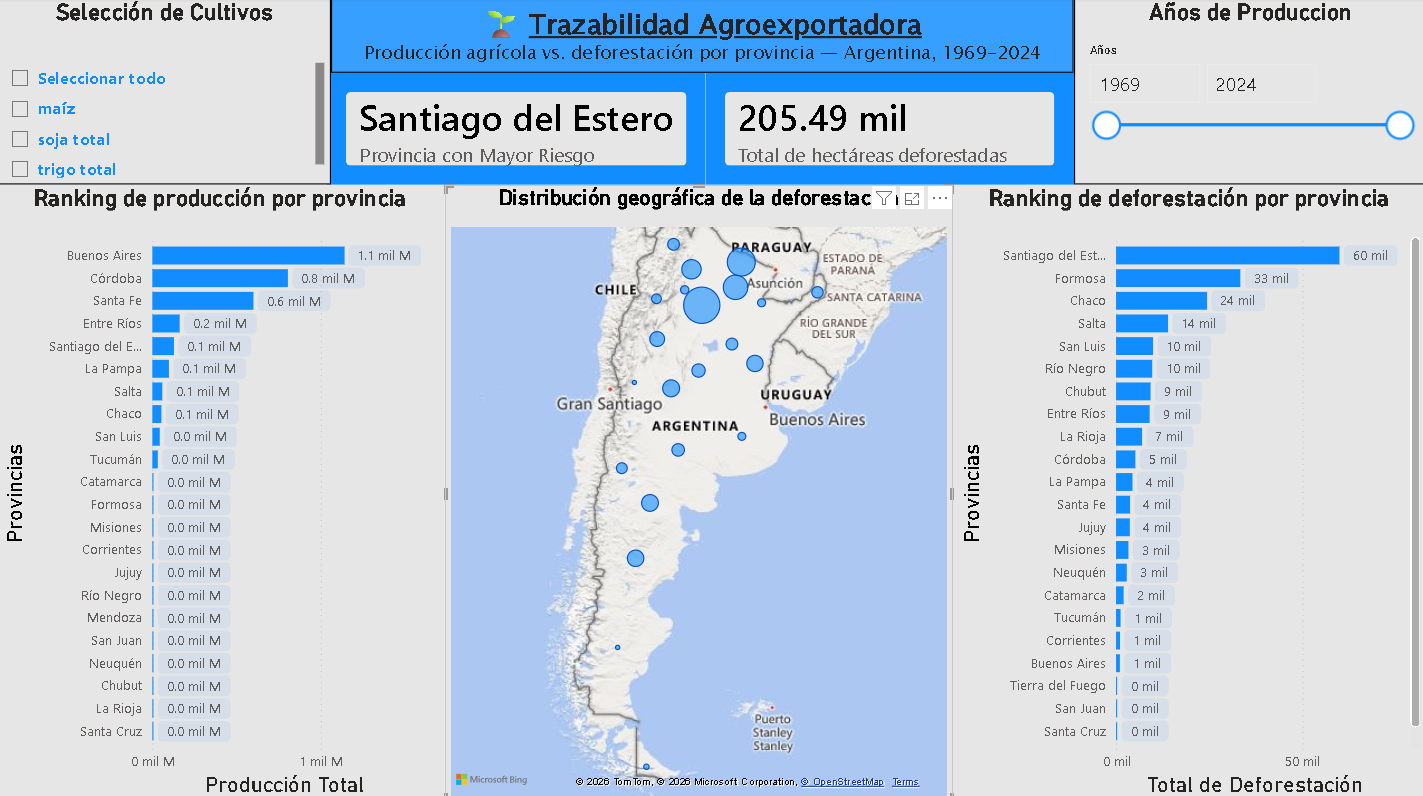

Layout of this report page (visuals, bound fields, positions):
{"tool":"powerbi","page":{"name":"Trazabilidad Agroexportadora","canvas":[1280,720],"ordinal":0},"visuals":[{"type":"barChart","title":"Ranking de producción por provincia","fields":{"Category":["produccion_limpia.provincia"],"Y":["Sum(produccion_limpia.produccion_tm)"]},"box":[0,167.3,401.7,552.5],"z":0},{"type":"barChart","title":"Ranking de deforestación por provincia","fields":{"Category":["deforestacion_limpia.provincia"],"Y":["Sum(deforestacion_limpia.total_deforestacion)"]},"box":[856.9,167.3,423.1,552.5],"z":1000},{"type":"cardVisual","fields":{"Data":["Sum(deforestacion_limpia.total_deforestacion)"]},"box":[635.8,67.2,329.6,100.3],"z":2000},{"type":"cardVisual","fields":{"Data":["deforestacion_limpia.Mayor Riesgo"]},"box":[296.4,67.2,339.4,100.3],"z":3000},{"type":"slicer","title":"Selección de Cultivos","fields":{"Values":["produccion_limpia.cultivo"]},"box":[0,0,300,167.5],"z":4000},{"type":"slicer","title":"Años de Produccion","fields":{"Values":["produccion_limpia.anio"]},"box":[965.4,0,314.3,167.5],"z":5000},{"type":"map","title":"Distribución geográfica de la deforestación","fields":{"Category":["deforestacion_limpia.provincia"],"Size":["Sum(deforestacion_limpia.total_deforestacion)"]},"box":[401.8,167.3,455.2,552.5],"z":6000},{"type":"textbox","box":[300,0,665.4,67.2],"z":7000}]}

Visuals, with their boxes in screenshot pixels (x1, y1, x2, y2), scaled from the page's 1280x720 canvas onto the 1423x796 screenshot:
"Ranking de producción por provincia" barChart: bbox=[0, 185, 447, 795]
"Ranking de deforestación por provincia" barChart: bbox=[953, 185, 1422, 795]
cardVisual - Sum(deforestacion_limpia.total_deforestacion): bbox=[707, 74, 1073, 185]
cardVisual - deforestacion_limpia.Mayor Riesgo: bbox=[330, 74, 707, 185]
"Selección de Cultivos" slicer: bbox=[0, 0, 334, 185]
"Años de Produccion" slicer: bbox=[1073, 0, 1422, 185]
"Distribución geográfica de la deforestación" map: bbox=[447, 185, 953, 795]
textbox: bbox=[334, 0, 1073, 74]
